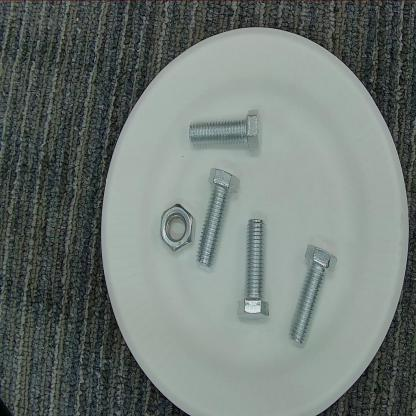FOD: (289, 240, 344, 346), (198, 167, 243, 270), (237, 214, 277, 324), (183, 104, 271, 151), (158, 203, 196, 254)
